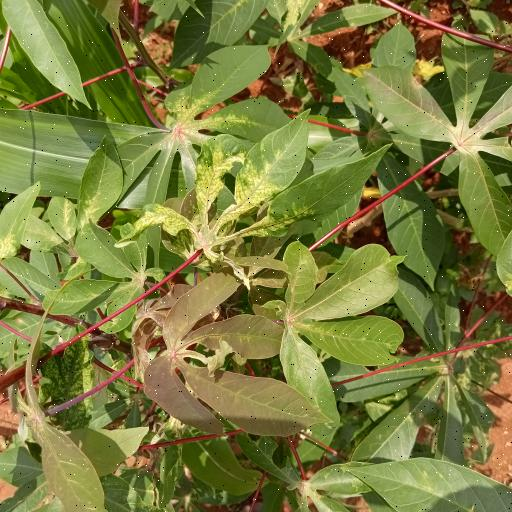Cassava_Healthy: (71, 43, 286, 222), (288, 245, 417, 430), (150, 270, 290, 438)
